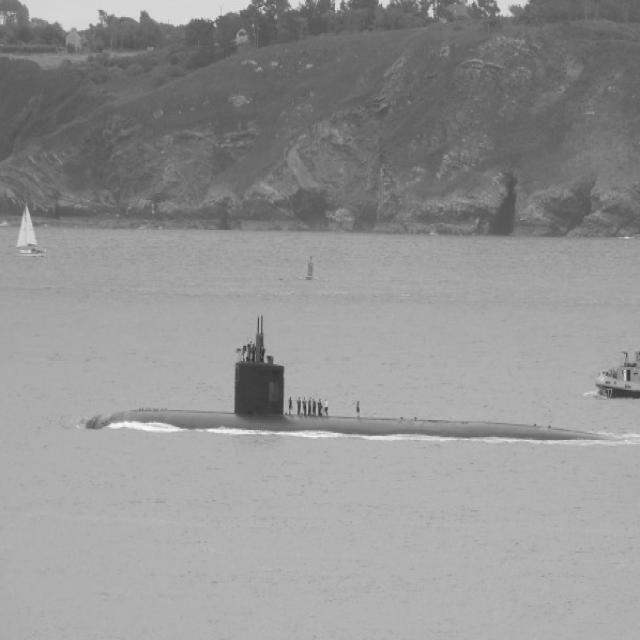submarine: (83, 334, 640, 451)
